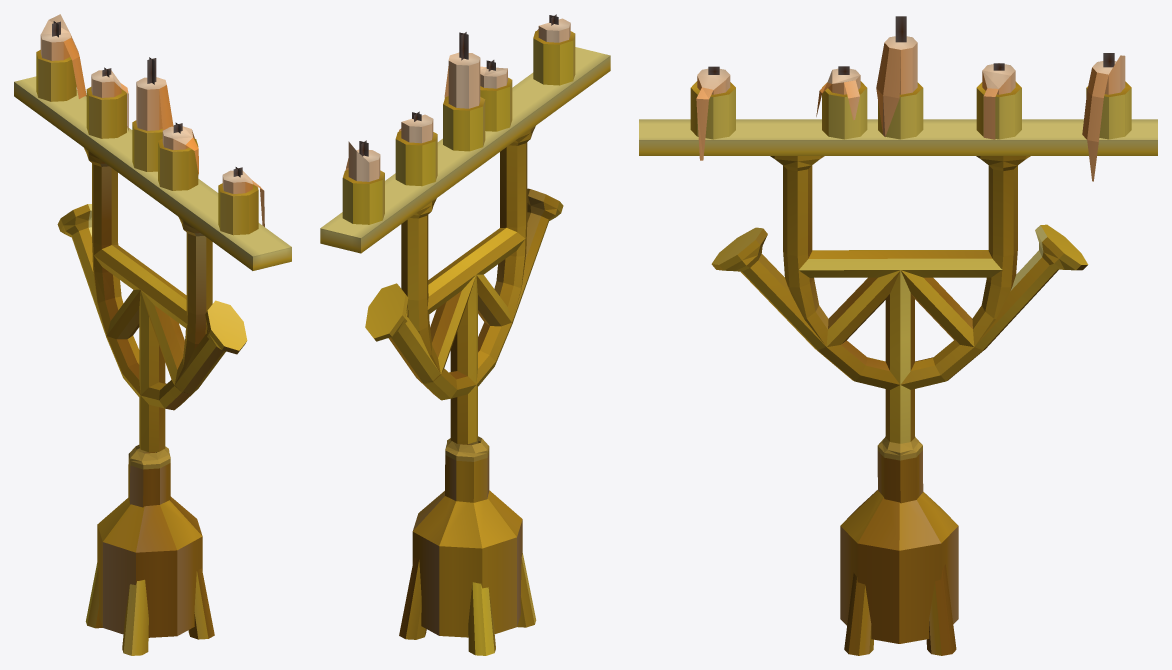
File: spent_light_997x05.obj
3 renders of one model, left to right at view 1: azimuth 30°, elevation 25°; view 2: azimuth 150°, elevation 25°; view 3: azimuth 270°, elevation 25°, orthographic. The views are drawn at different scales.
Parts seen in each view (by area): view 1: spent_light_997x05; view 2: spent_light_997x05; view 3: spent_light_997x05.
Boxes of the visible parts, x1,y1,x2,y2 form: spent_light_997x05: [14, 14, 291, 655]; spent_light_997x05: [320, 14, 610, 655]; spent_light_997x05: [639, 16, 1157, 655].
Bounding box in the file's own units: 0.2955 × 1.7 × 1.3.
